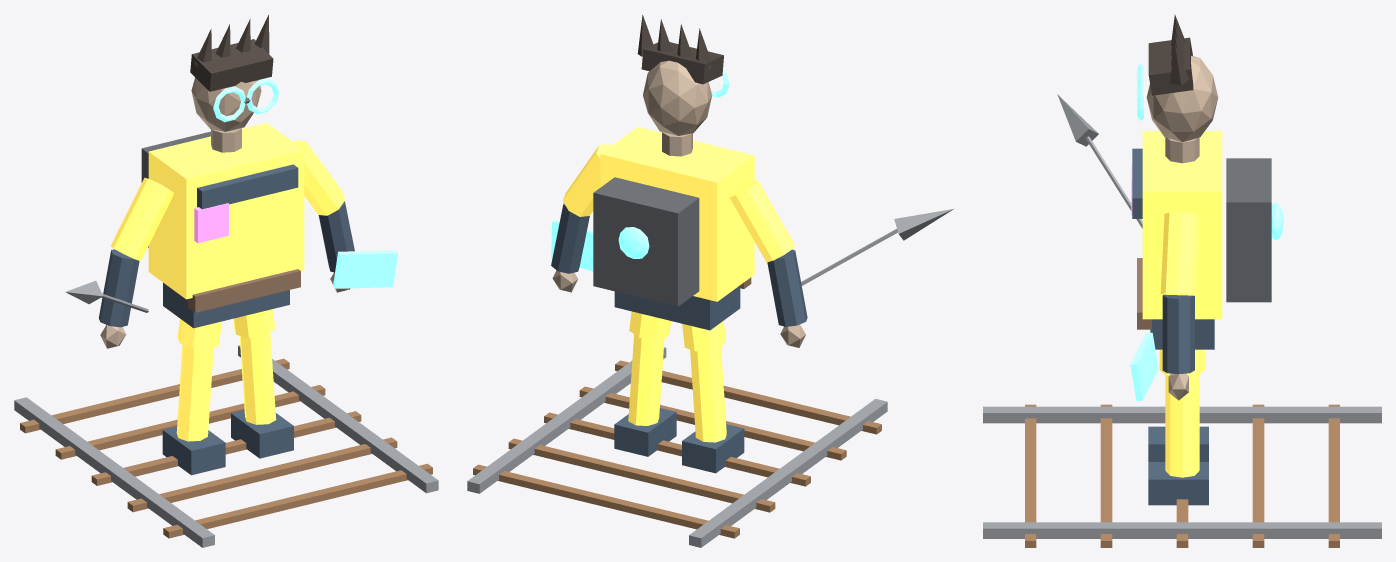
The model's file is spark.glb.
3 renders of one model, left to right at view 1: azimuth 30°, elevation 25°; view 2: azimuth 150°, elevation 25°; view 3: azimuth 270°, elevation 25°, orthographic. The views are drawn at different scales.
Visible parts, largest first — view 1: spark_torso, subterranean_grid_track_left, subterranean_grid_track_right, spark_left_lower_leg, subway_sleeper_4, subway_sleeper_5, spark_right_lower_leg, spark_left_upper_arm, spark_spiky_hair_front, spark_chest_plate, spark_handheld_vendor_tablet, subway_sleeper_1 (+17 smaller); view 2: spark_torso, spark_tech_backpack, subterranean_grid_track_left, spark_head, subterranean_grid_track_right, spark_left_lower_leg, subway_sleeper_2, subway_sleeper_1, spark_right_lower_leg, spark_pelvis, spark_left_upper_arm, subway_sleeper_5 (+14 smaller); view 3: spark_torso, spark_tech_backpack, subterranean_grid_track_right, subterranean_grid_track_left, spark_head, spark_right_lower_leg, spark_right_upper_arm, spark_right_forearm, spark_right_boot, spark_spiky_hair_front, subway_sleeper_2, subway_sleeper_4 (+10 smaller).
Part boxes in pixels (x1=…): spark_torso: x1=148, y1=123, x2=304, y2=299; subterranean_grid_track_left: x1=14, y1=397, x2=214, y2=547; subterranean_grid_track_right: x1=238, y1=345, x2=438, y2=493; spark_left_lower_leg: x1=176, y1=345, x2=213, y2=441; subway_sleeper_4: x1=127, y1=437, x2=397, y2=512; subway_sleeper_5: x1=163, y1=463, x2=432, y2=538; spark_right_lower_leg: x1=239, y1=332, x2=276, y2=424; spark_left_upper_arm: x1=111, y1=177, x2=173, y2=261; spark_spiky_hair_front: x1=190, y1=39, x2=273, y2=91; spark_chest_plate: x1=197, y1=164, x2=298, y2=209; spark_handheld_vendor_tablet: x1=333, y1=250, x2=397, y2=288; subway_sleeper_1: x1=20, y1=358, x2=289, y2=433; spark_torso: x1=600, y1=127, x2=754, y2=301; spark_tech_backpack: x1=593, y1=177, x2=699, y2=306; subterranean_grid_track_left: x1=689, y1=399, x2=887, y2=547; spark_head: x1=643, y1=60, x2=711, y2=135; subterranean_grid_track_right: x1=467, y1=347, x2=666, y2=493; spark_left_lower_leg: x1=690, y1=347, x2=726, y2=442; subway_sleeper_2: x1=508, y1=438, x2=775, y2=512; subway_sleeper_1: x1=473, y1=464, x2=739, y2=538; spark_right_lower_leg: x1=628, y1=334, x2=664, y2=425; spark_pelvis: x1=614, y1=286, x2=740, y2=330; spark_left_upper_arm: x1=729, y1=180, x2=794, y2=262; subway_sleeper_5: x1=615, y1=360, x2=881, y2=434; spark_torso: x1=1142, y1=131, x2=1222, y2=319; spark_tech_backpack: x1=1226, y1=158, x2=1271, y2=302; subterranean_grid_track_right: x1=983, y1=522, x2=1381, y2=538; subterranean_grid_track_left: x1=983, y1=406, x2=1381, y2=423; spark_head: x1=1146, y1=55, x2=1218, y2=142; spark_right_lower_leg: x1=1165, y1=375, x2=1199, y2=477; spark_right_upper_arm: x1=1160, y1=212, x2=1200, y2=296; spark_right_forearm: x1=1162, y1=294, x2=1194, y2=374; spark_right_boot: x1=1148, y1=462, x2=1208, y2=505; spark_spiky_hair_front: x1=1148, y1=37, x2=1193, y2=95; subway_sleeper_2: x1=1252, y1=404, x2=1264, y2=547; subway_sleeper_4: x1=1100, y1=404, x2=1112, y2=547.
Size of the model in its own units: 2.38 by 2.65 by 2.1.
